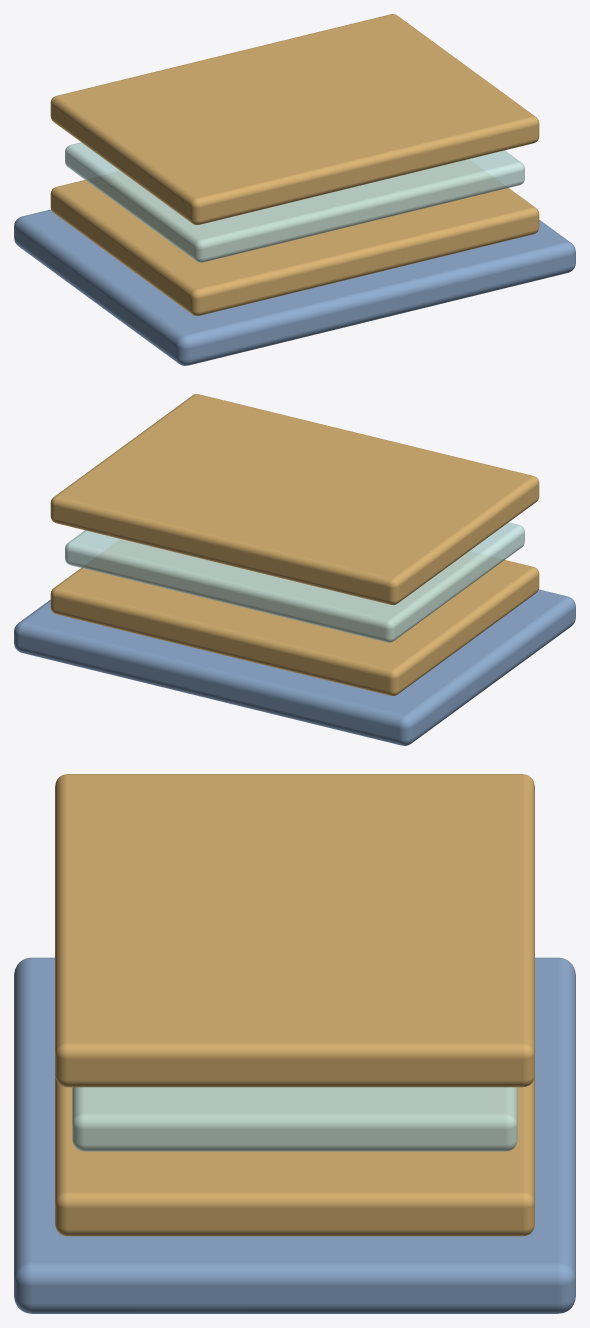
File: 分层器件.glb
3 views of the same model, one above another, from view 1: azimuth 30°, elevation 25°; view 2: azimuth 150°, elevation 25°; view 3: azimuth 270°, elevation 25° (orthographic). The views are drawn at different scales.
Parts seen in each view (by area): view 1: 上层电极, 支撑基底, 下层电极, 介质层; view 2: 上层电极, 支撑基底, 下层电极, 介质层; view 3: 上层电极, 支撑基底, 下层电极, 介质层.
Part boxes in pixels (box(x1,y1,x2,y2)): 上层电极: box(50, 14, 539, 225); 支撑基底: box(14, 209, 575, 365); 下层电极: box(50, 180, 539, 316); 介质层: box(65, 142, 524, 262); 上层电极: box(50, 394, 539, 605); 支撑基底: box(14, 589, 575, 745); 下层电极: box(50, 560, 539, 696); 介质层: box(65, 522, 524, 642); 上层电极: box(55, 774, 534, 1087); 支撑基底: box(14, 957, 575, 1313); 下层电极: box(55, 1075, 534, 1236); 介质层: box(72, 1087, 517, 1151).
Bounding box in the file's own units: 5.5 × 2.02 × 4.1.
